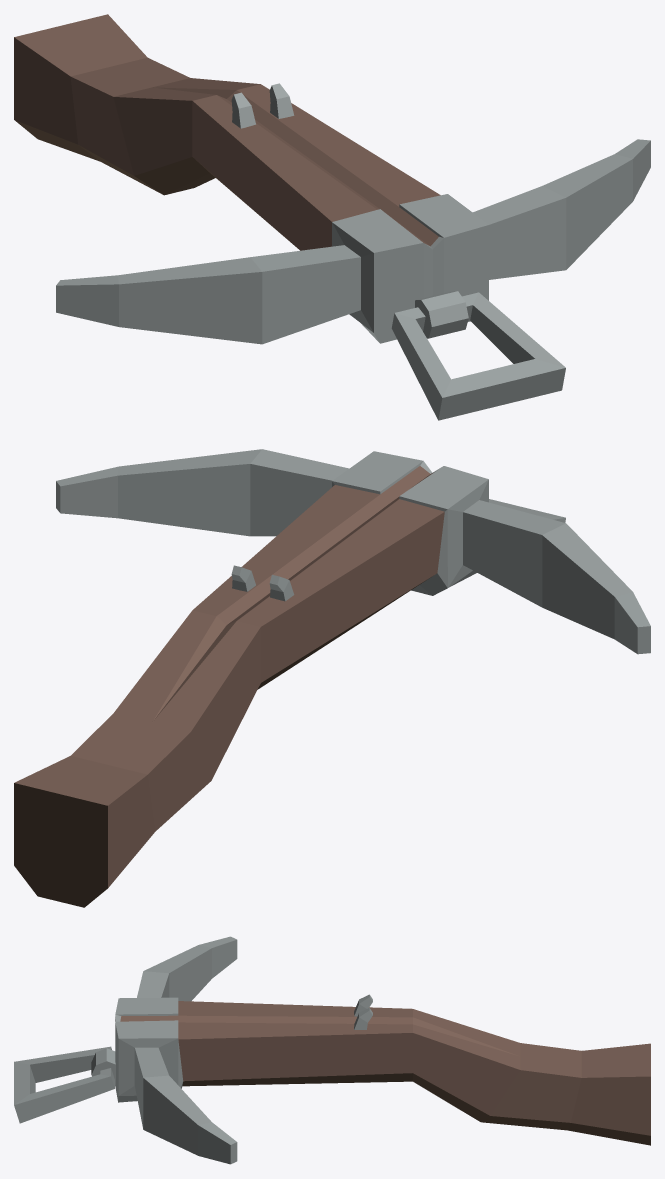
File: crossbow_a.fbx
3 views of the same model, one above another, from view 1: azimuth 30°, elevation 25°; view 2: azimuth 150°, elevation 25°; view 3: azimuth 270°, elevation 25° (orthographic). The views are drawn at different scales.
Visible parts, largest first — view 1: CrossbowA; view 2: CrossbowA; view 3: CrossbowA.
Boxes of the visible parts, left/top/right/bottom form: CrossbowA: left=14, top=14, right=650, bottom=420; CrossbowA: left=14, top=449, right=650, bottom=907; CrossbowA: left=14, top=936, right=650, bottom=1164.
Size of the model in its own units: 122 by 36.82 by 157.
